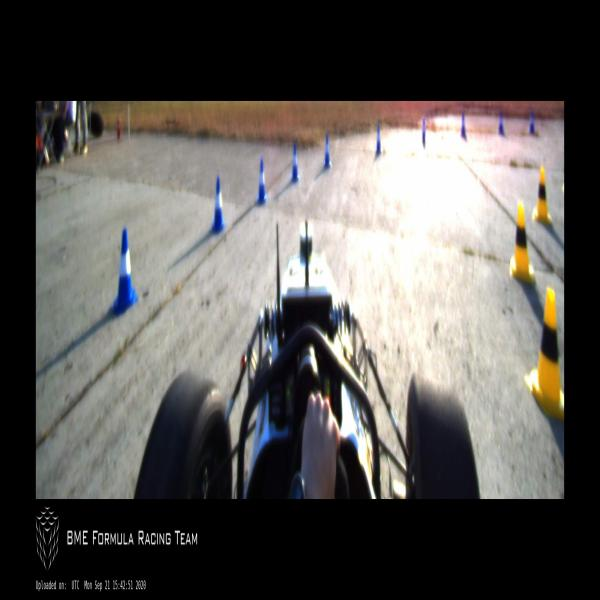blue_cone: (110, 228, 138, 317), (210, 177, 226, 234), (255, 158, 268, 204), (290, 144, 300, 183), (323, 133, 332, 168), (375, 124, 383, 156), (497, 110, 504, 136), (420, 116, 426, 145), (460, 111, 466, 140), (528, 110, 534, 136)
yellow_cone: (524, 288, 564, 420), (508, 201, 534, 282), (532, 166, 552, 223)
